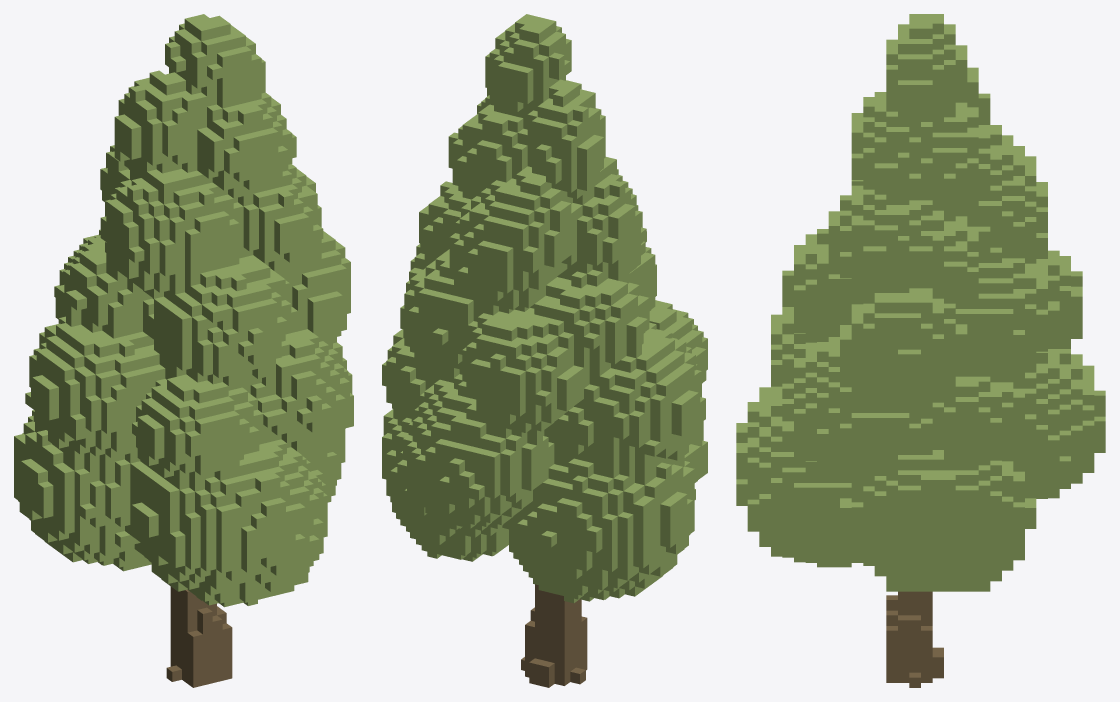
The model's file is Poplar_Tree.fbx.
The picture shows the model from 3 angles, left to right: view 1: azimuth 30°, elevation 25°; view 2: azimuth 150°, elevation 25°; view 3: azimuth 270°, elevation 25°; orthographic projection. The views are drawn at different scales.
Visible parts, largest first — view 1: Poplar; view 2: Poplar; view 3: Poplar.
Boxes of the visible parts, x1,y1,x2,y2 form: Poplar: (14, 14, 353, 687); Poplar: (382, 14, 707, 687); Poplar: (736, 14, 1105, 687).
Bounding box in the file's own units: 266 × 579 × 294.
